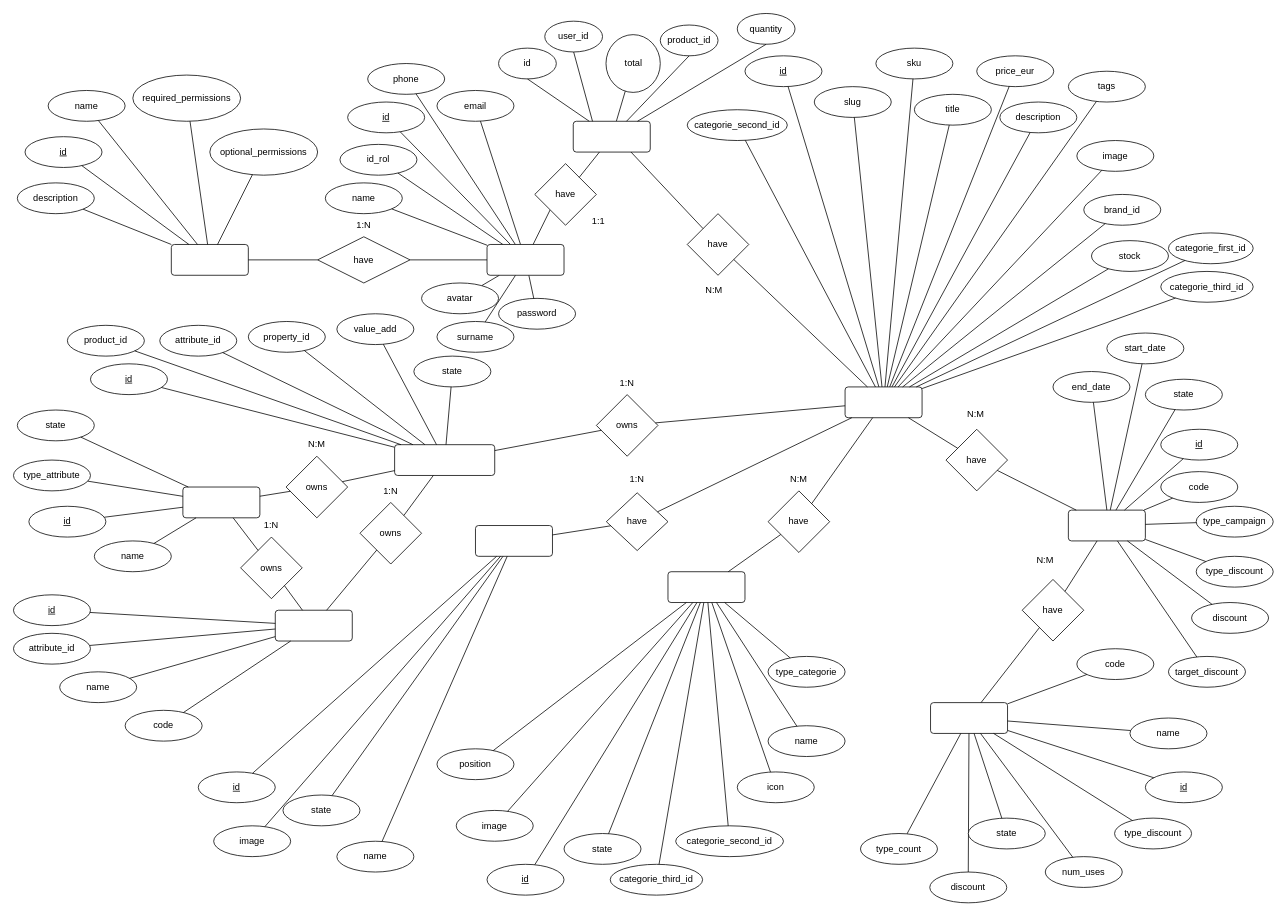
Some shapes in this 1287 by 916 pixel diagram are drawn without their labels. The shapes that lost their labels are listed below. From the top down, each one's centre as x and y in pixels, then its label:
At (611,136): "Carts".
At (209,259): "Roles".
At (525,259): "Users".
At (883,402): "Products".
At (444,459): "Products_specifications".
At (221,502): "Atributes".
At (513,540): "Brands".
At (1106,525): "Discounts".
At (706,587): "Categories".
At (313,625): "Properties".
At (969,717): "Coupons".
